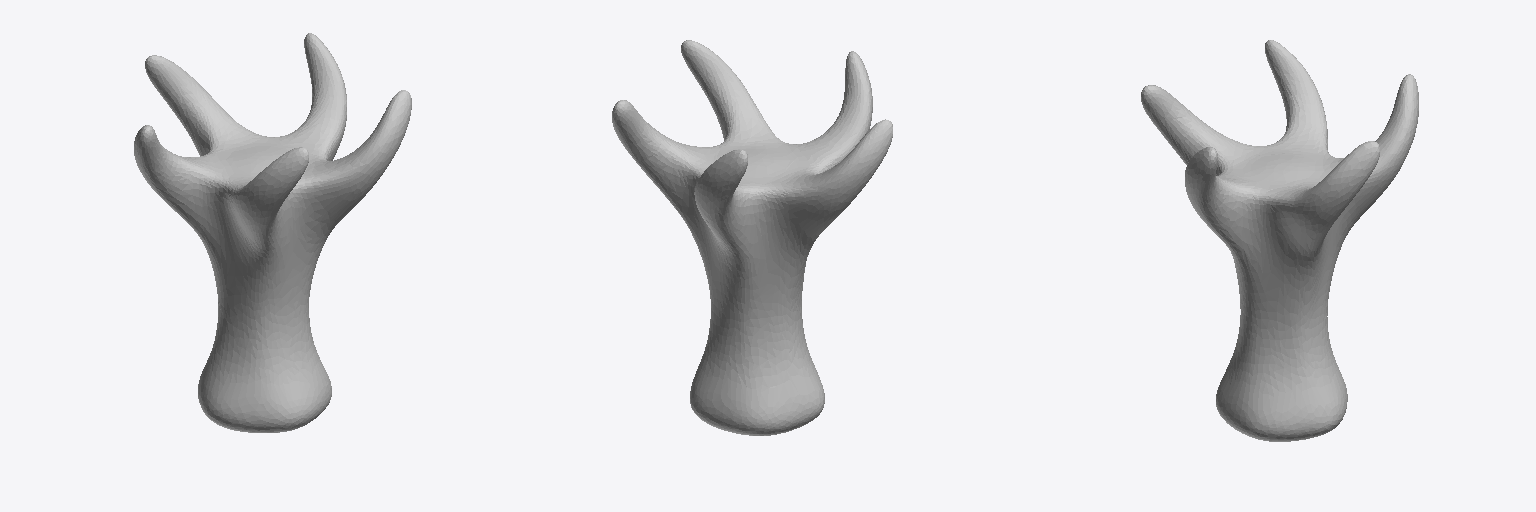
Rendered from eat.obj.
3 views of the same model, side by side, from view 1: azimuth 30°, elevation 25°; view 2: azimuth 150°, elevation 25°; view 3: azimuth 270°, elevation 25° (orthographic).
Parts seen in each view (by area): view 1: Quad_Sphere; view 2: Quad_Sphere; view 3: Quad_Sphere.
Part boxes in pixels (x1,y1,x2,y2): Quad_Sphere: (134, 33, 411, 432); Quad_Sphere: (612, 40, 892, 435); Quad_Sphere: (1141, 40, 1418, 441).
Bounding box in the file's own units: 3.7 × 4.8 × 3.7.